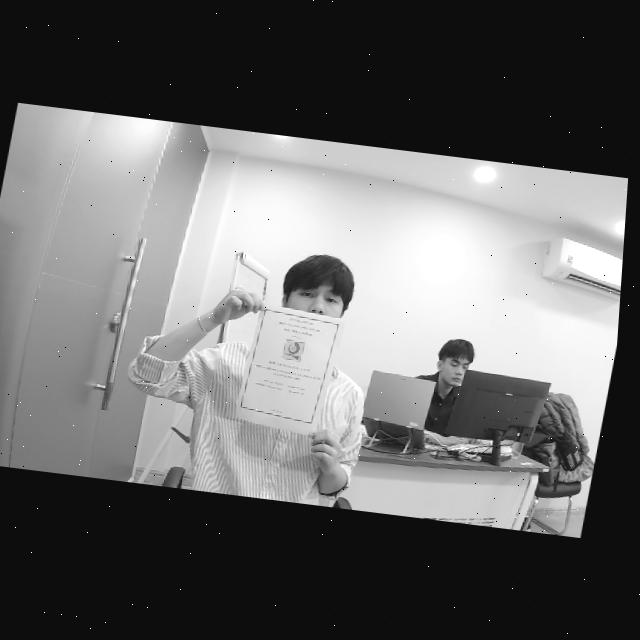document: (234, 303, 346, 437)
face: (270, 259, 356, 316), (428, 340, 477, 399)
